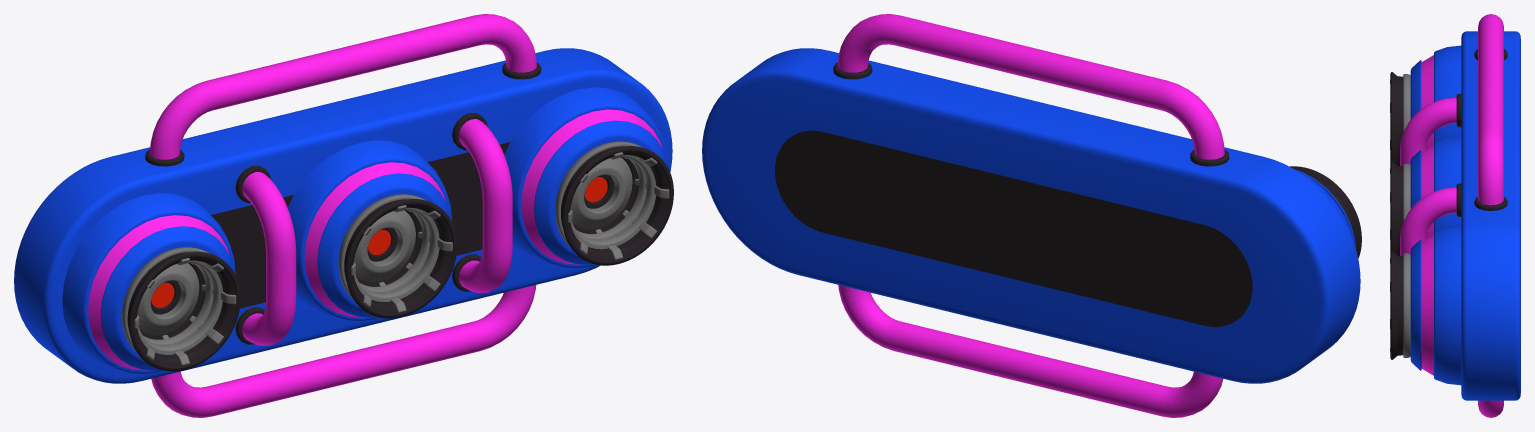
File: Engine.FBX
3 views of the same model, side by side, from view 1: azimuth 30°, elevation 25°; view 2: azimuth 150°, elevation 25°; view 3: azimuth 270°, elevation 25° (orthographic). The views are drawn at different scales.
Parts seen in each view (by area): view 1: Engine; view 2: Engine; view 3: Engine.
Part boxes in pixels (x1,y1,x2,y2): Engine: [14, 14, 673, 417]; Engine: [702, 14, 1361, 417]; Engine: [1390, 14, 1520, 417].
Size of the model in its own units: 7409 by 3758 by 1574.
